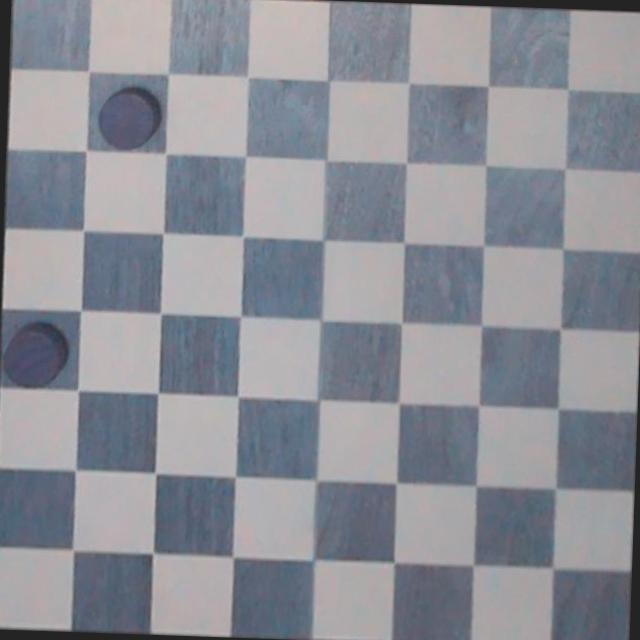BOARD: (0, 0, 640, 640)
black: (0, 312, 72, 393), (89, 80, 164, 156)
